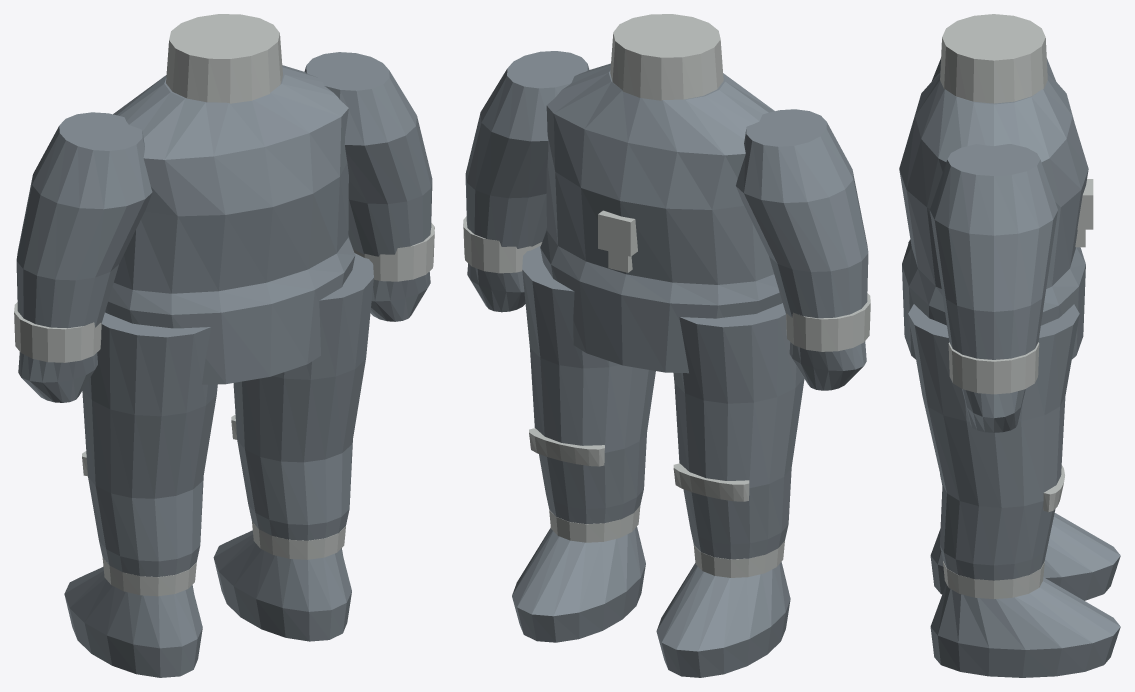
The model's file is CHAR-061.glb.
3 views of the same model, side by side, from view 1: azimuth 30°, elevation 25°; view 2: azimuth 150°, elevation 25°; view 3: azimuth 270°, elevation 25° (orthographic). The views are drawn at different scales.
Parts seen in each view (by area): view 1: 精细体素婴儿身体母版; view 2: 精细体素婴儿身体母版; view 3: 精细体素婴儿身体母版.
Boxes of the visible parts, x1,y1,x2,y2 form: 精细体素婴儿身体母版: [14, 14, 434, 677]; 精细体素婴儿身体母版: [463, 14, 870, 677]; 精细体素婴儿身体母版: [899, 14, 1120, 677].
Bounding box in the file's own units: 0.3013 × 0.422 × 0.145.
2 materials, 2 textured.
